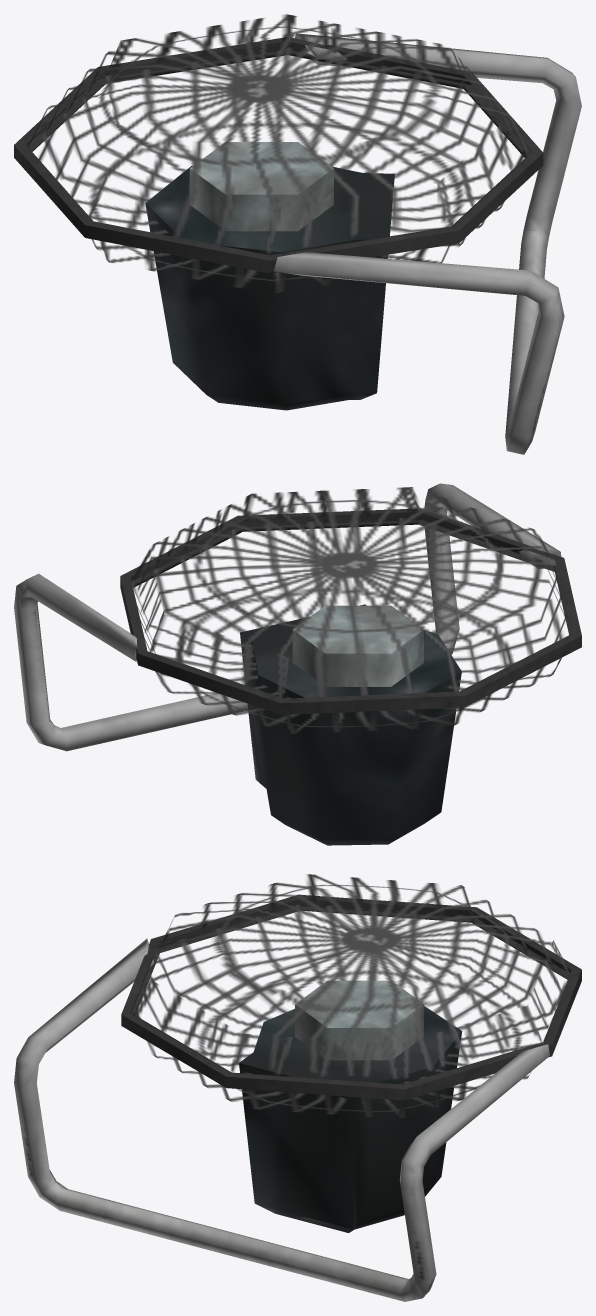
The model's file is Ventilator_01-col.glb.
The picture shows the model from 3 angles, top to bottom: view 1: azimuth 30°, elevation 25°; view 2: azimuth 150°, elevation 25°; view 3: azimuth 270°, elevation 25°; orthographic projection. The views are drawn at different scales.
Visible parts, largest first — view 1: Ventilator_01-col; view 2: Ventilator_01-col; view 3: Ventilator_01-col.
Boxes of the visible parts, box(x1,y1,x2,y2) form: Ventilator_01-col: box(14, 14, 581, 454); Ventilator_01-col: box(14, 483, 581, 845); Ventilator_01-col: box(14, 874, 581, 1301).
Size of the model in its own units: 0.5674 by 0.2757 by 0.5604.
Materials: 1 (1 with a texture image).
